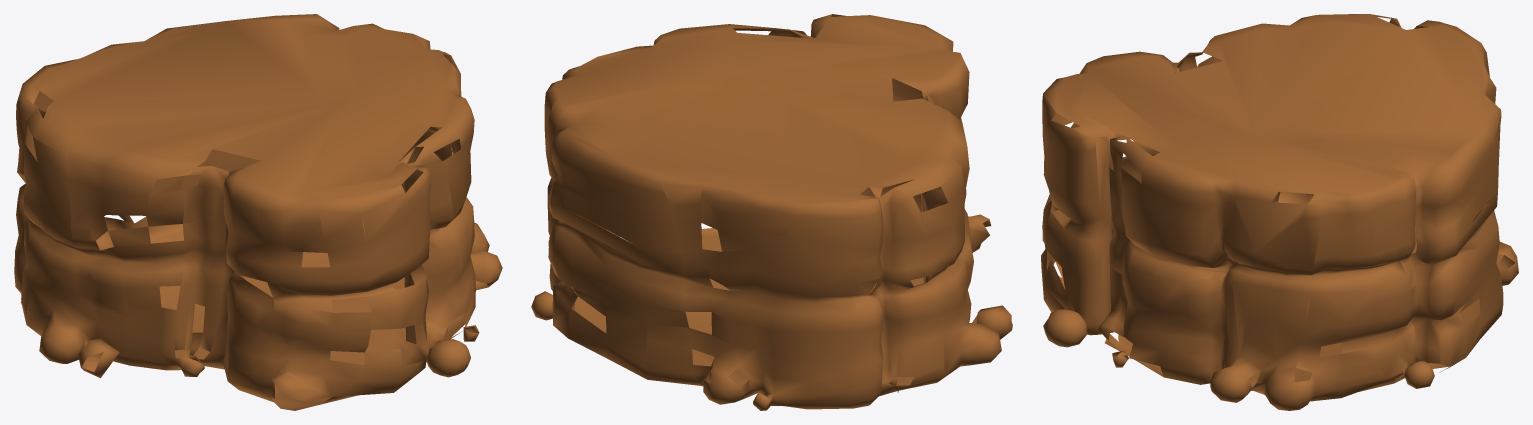
Rendered from bloque_de_piedras.glb.
3 renders of one model, left to right at view 1: azimuth 30°, elevation 25°; view 2: azimuth 150°, elevation 25°; view 3: azimuth 270°, elevation 25°, orthographic.
Parts seen in each view (by area): view 1: bloque_de_piedras; view 2: bloque_de_piedras; view 3: bloque_de_piedras.
Part boxes in pixels (x1,y1,x2,y2): bloque_de_piedras: (14, 14, 502, 410); bloque_de_piedras: (531, 14, 1012, 410); bloque_de_piedras: (1041, 14, 1518, 410).
Size of what is drawn, in the model's own units: 1 by 0.4492 by 0.9297.
Materials: 1 (1 with a texture image).
